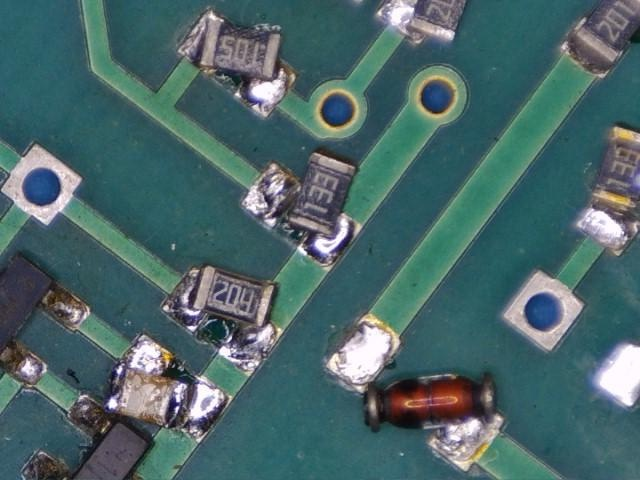pcb_defect: (323, 311, 509, 474), (239, 150, 365, 273), (103, 331, 233, 442), (159, 263, 285, 377), (174, 7, 300, 120), (572, 124, 640, 259), (374, 0, 468, 46)
